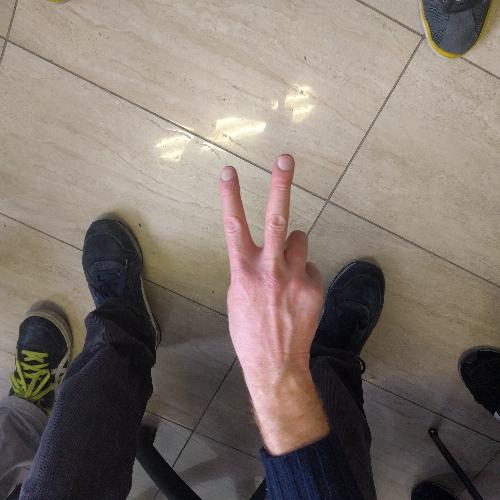scissors: (207, 143, 330, 380)
